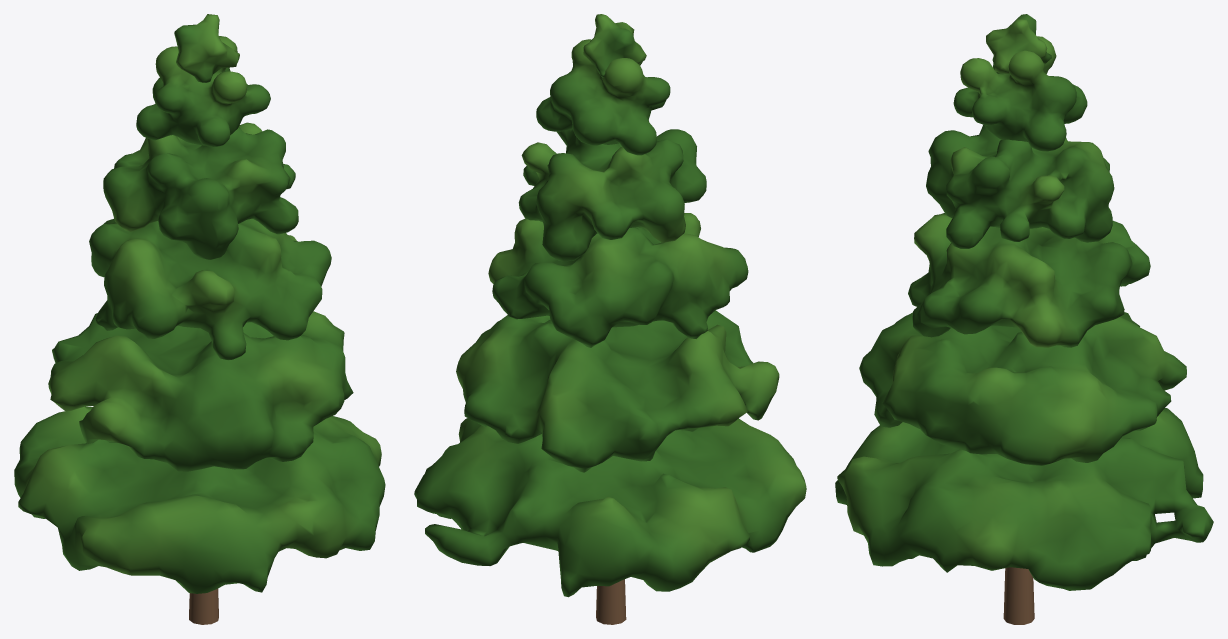
File: tree_conifer.glb
The picture shows the model from 3 angles, left to right: view 1: azimuth 30°, elevation 25°; view 2: azimuth 150°, elevation 25°; view 3: azimuth 270°, elevation 25°; orthographic projection.
Parts seen in each view (by area): view 1: tree_conifer_foliage, tree_conifer; view 2: tree_conifer_foliage, tree_conifer; view 3: tree_conifer_foliage, tree_conifer.
Boxes of the visible parts, <box> form: tree_conifer_foliage: <box>14,14,385,593</box>; tree_conifer: <box>189,588,218,624</box>; tree_conifer_foliage: <box>414,14,806,597</box>; tree_conifer: <box>596,579,626,624</box>; tree_conifer_foliage: <box>835,14,1213,590</box>; tree_conifer: <box>1003,567,1034,624</box>.
Bounding box in the file's own units: 3.34 × 6 × 3.42.
